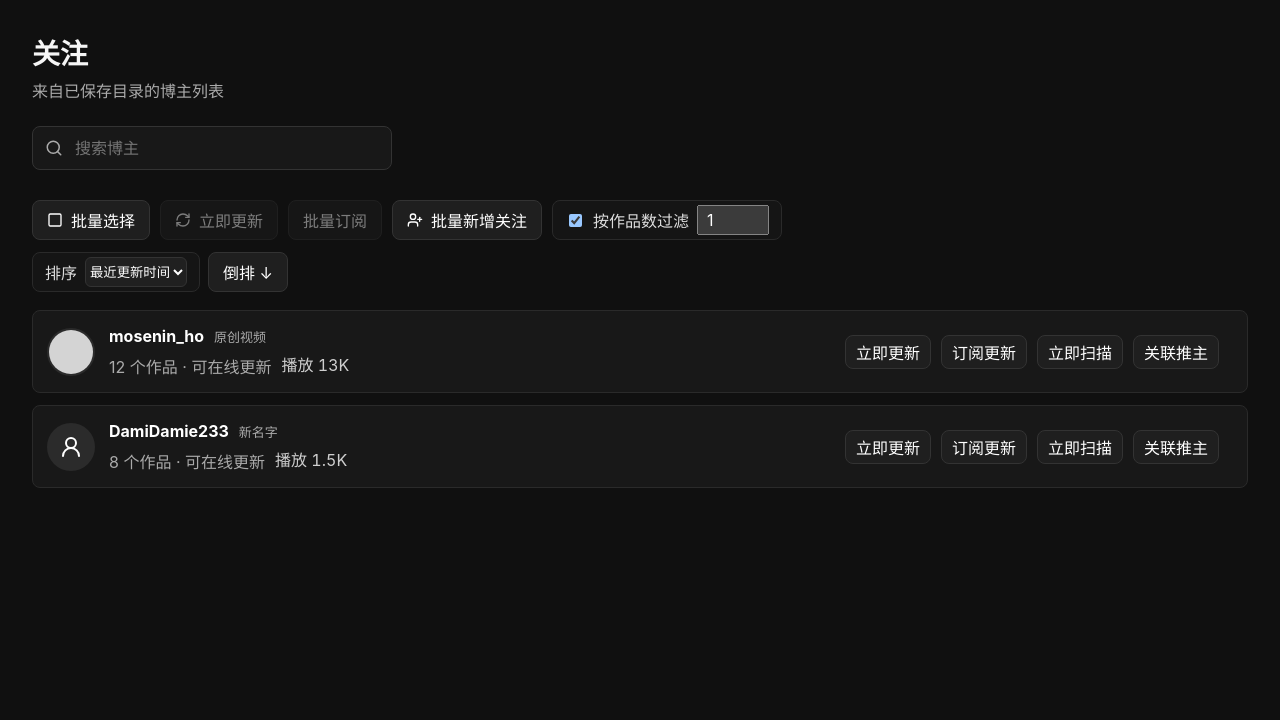
previews and imports twitter creators from the bulk import dialog
Step 1. Click the button "批量新增关注" → {"x": 467, "y": 220}, box [392,200,542,240]
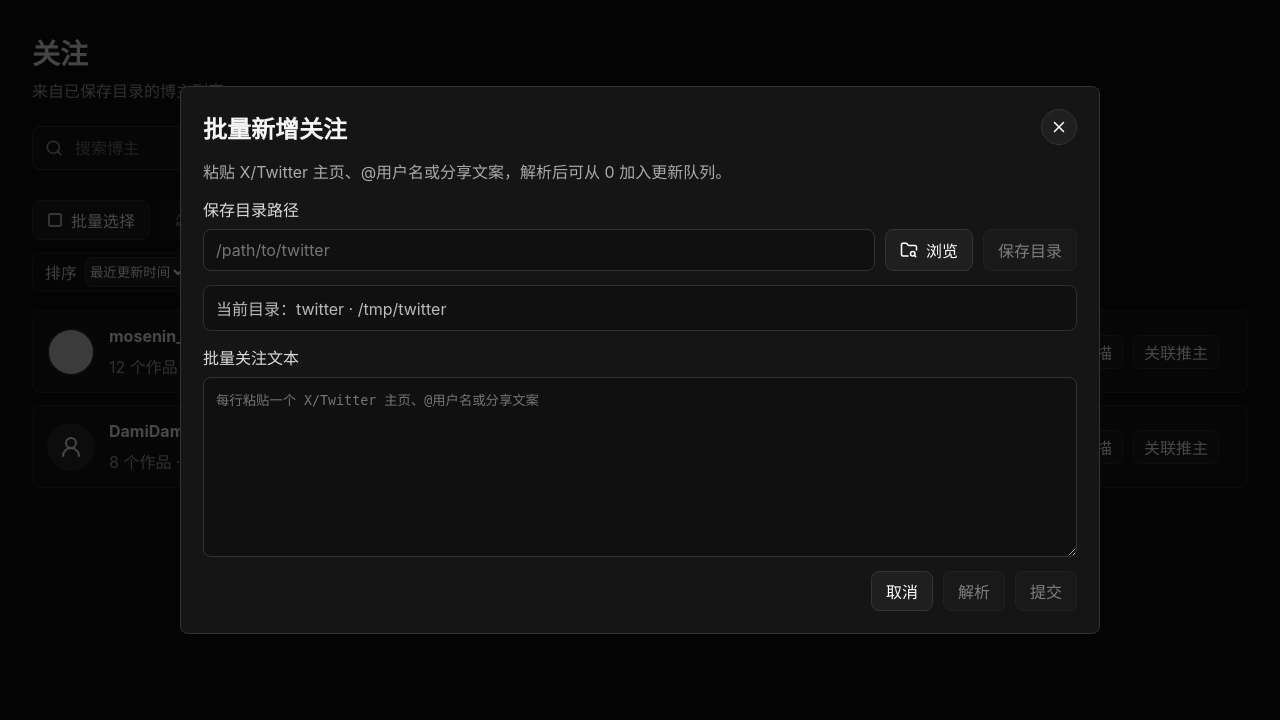
Expected: the dialog "批量新增关注" is shown
Expected: the button named "关闭批量新增关注" is shown, [1041,109,1077,145]
Step 2. Type "@new_creator" into the text box labelled "批量关注文本" → {"x": 640, "y": 467}, box [203,377,1077,557]
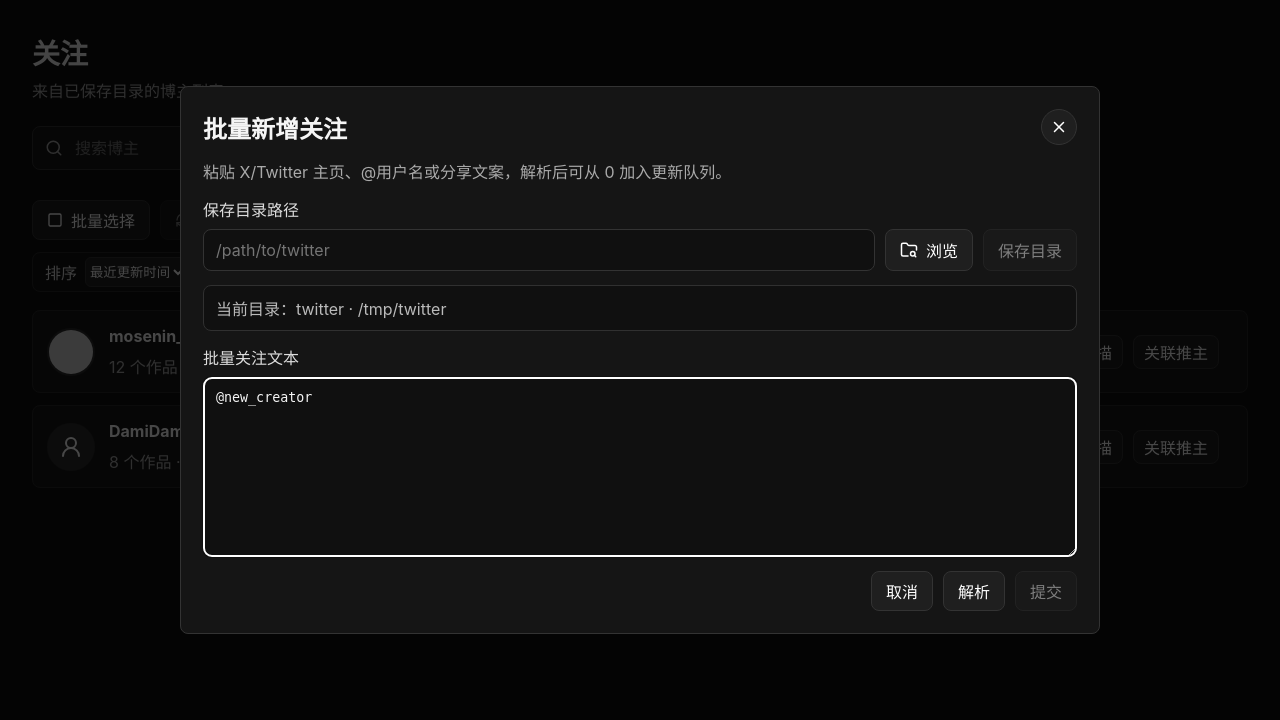
Step 3. Click the button "解析" → {"x": 974, "y": 591}, box [943,571,1005,611]
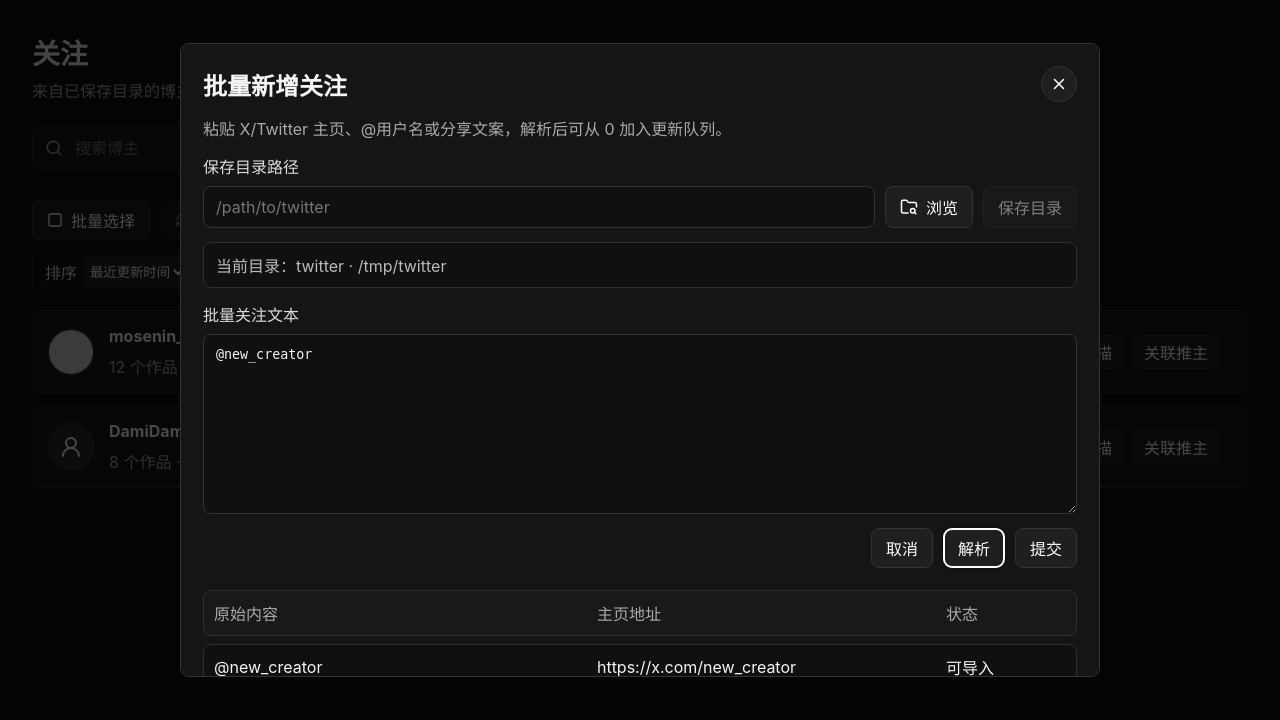
Expected: the text "https://x.com/new_creator" is shown, [597,657,796,677]
Step 4. Click the button "提交" → {"x": 1046, "y": 548}, box [1015,528,1077,568]
(page scrolled)
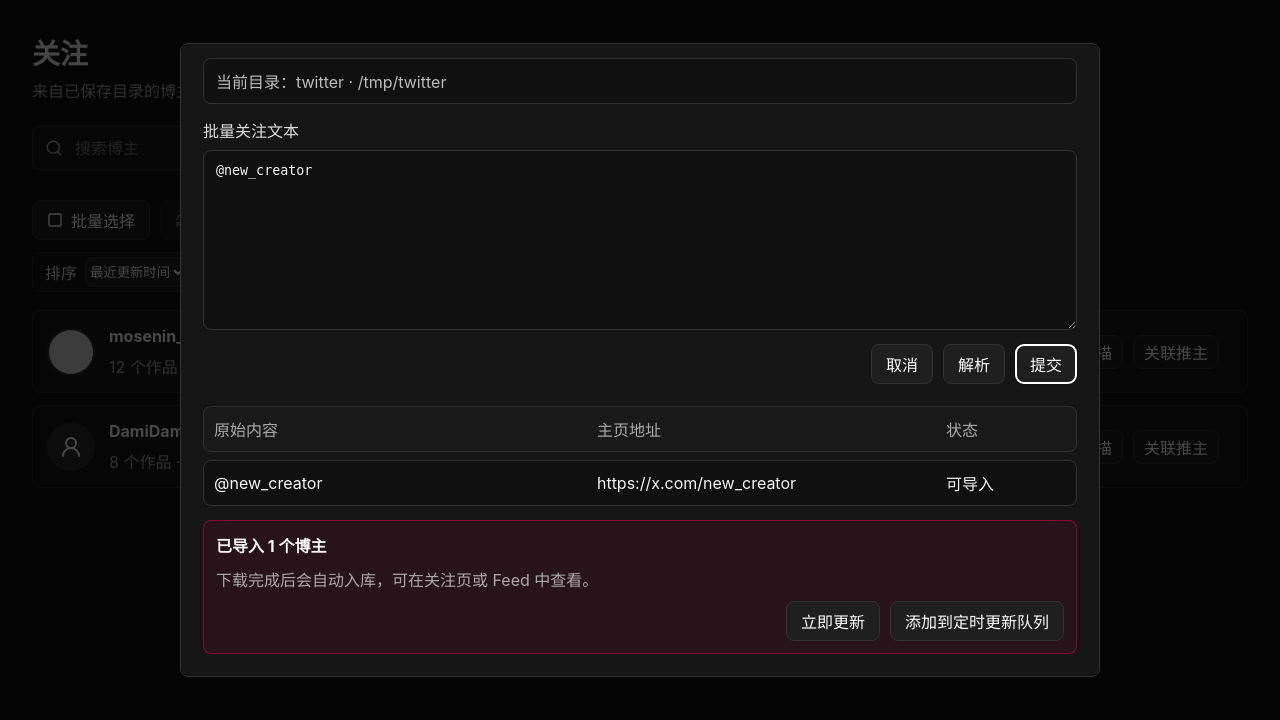
Expected: the text "已导入 1 个博主" is shown, [216,536,326,556]
